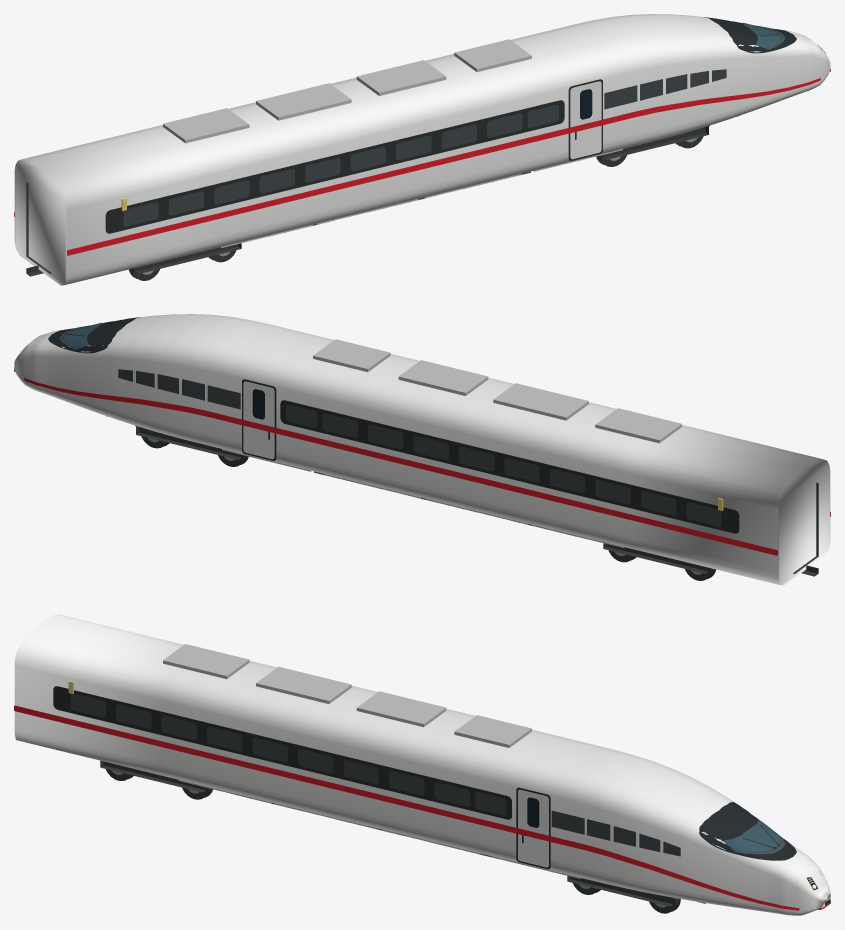
Rendered from ice3-br403-v2-continuity-403-0.glb.
The picture shows the model from 3 angles, top to bottom: view 1: azimuth 30°, elevation 25°; view 2: azimuth 150°, elevation 25°; view 3: azimuth 330°, elevation 25°; orthographic projection.
Visible parts, largest first — view 1: ice3_v2_reference_calibrated_cab_shell, ice3_continuity_403_0_continuous_black_glazing_band_-1, ice3_continuity_403_0_shared_red_body_stripe_-1, ice3_v2_roof_fairing_1, ice3_v2_roof_fairing_2, ice3_continuity_403_0_door_leaf_-1, ice3_v2_roof_fairing_0, ice3_v2_roof_fairing_3, ice3_v2_panorama_windscreen_seal, ice3_continuity_integrated_nose_stripe_-1, ice3_v2_end_car_bogie_1_sideframe_-1, ice3_v2_end_car_bogie_0_sideframe_-1 (+12 smaller); view 2: ice3_v2_reference_calibrated_cab_shell, ice3_continuity_403_0_continuous_black_glazing_band_1, ice3_continuity_403_0_shared_red_body_stripe_1, ice3_v2_roof_fairing_1, ice3_v2_roof_fairing_2, ice3_continuity_403_0_door_leaf_1, ice3_v2_roof_fairing_0, ice3_v2_roof_fairing_3, ice3_v2_end_car_bogie_1, ice3_v2_end_car_bogie_0, ice3_v2_panorama_windscreen_seal, ice3_continuity_integrated_nose_stripe_1 (+12 smaller); view 3: ice3_v2_reference_calibrated_cab_shell, ice3_continuity_403_0_continuous_black_glazing_band_-1, ice3_continuity_403_0_shared_red_body_stripe_-1, ice3_v2_panorama_windscreen_seal, ice3_v2_roof_fairing_1, ice3_v2_roof_fairing_2, ice3_continuity_403_0_door_leaf_-1, ice3_v2_roof_fairing_0, ice3_v2_roof_fairing_3, ice3_continuity_integrated_nose_stripe_-1, ice3_v2_panorama_windscreen_glass, ice3_v2_end_car_bogie_1_sideframe_-1 (+12 smaller).
Boxes of the visible parts, bbox=[...] form: ice3_v2_reference_calibrated_cab_shell: bbox=[14, 14, 830, 285]; ice3_continuity_403_0_continuous_black_glazing_band_-1: bbox=[105, 100, 564, 233]; ice3_continuity_403_0_shared_red_body_stripe_-1: bbox=[67, 116, 617, 255]; ice3_v2_roof_fairing_1: bbox=[256, 83, 351, 120]; ice3_v2_roof_fairing_2: bbox=[356, 60, 446, 95]; ice3_continuity_403_0_door_leaf_-1: bbox=[570, 81, 601, 159]; ice3_v2_roof_fairing_0: bbox=[163, 108, 249, 143]; ice3_v2_roof_fairing_3: bbox=[454, 39, 531, 72]; ice3_v2_panorama_windscreen_seal: bbox=[704, 17, 796, 53]; ice3_continuity_integrated_nose_stripe_-1: bbox=[617, 70, 830, 121]; ice3_v2_end_car_bogie_1_sideframe_-1: bbox=[603, 126, 708, 159]; ice3_v2_end_car_bogie_0_sideframe_-1: bbox=[136, 243, 241, 273]; ice3_v2_reference_calibrated_cab_shell: bbox=[14, 314, 830, 585]; ice3_continuity_403_0_continuous_black_glazing_band_1: bbox=[280, 400, 739, 533]; ice3_continuity_403_0_shared_red_body_stripe_1: bbox=[227, 416, 777, 555]; ice3_v2_roof_fairing_1: bbox=[493, 383, 588, 420]; ice3_v2_roof_fairing_2: bbox=[398, 360, 488, 395]; ice3_continuity_403_0_door_leaf_1: bbox=[243, 381, 274, 459]; ice3_v2_roof_fairing_0: bbox=[595, 408, 681, 443]; ice3_v2_roof_fairing_3: bbox=[313, 339, 390, 372]; ice3_v2_end_car_bogie_1: bbox=[136, 426, 248, 466]; ice3_v2_end_car_bogie_0: bbox=[603, 543, 715, 580]; ice3_v2_panorama_windscreen_seal: bbox=[48, 317, 140, 353]; ice3_continuity_integrated_nose_stripe_1: bbox=[14, 370, 227, 421]; ice3_v2_reference_calibrated_cab_shell: bbox=[14, 614, 830, 915]; ice3_continuity_403_0_continuous_black_glazing_band_-1: bbox=[53, 686, 511, 819]; ice3_continuity_403_0_shared_red_body_stripe_-1: bbox=[14, 705, 564, 844]; ice3_v2_panorama_windscreen_seal: bbox=[699, 802, 796, 860]; ice3_v2_roof_fairing_1: bbox=[256, 666, 351, 703]; ice3_v2_roof_fairing_2: bbox=[356, 691, 446, 727]; ice3_continuity_403_0_door_leaf_-1: bbox=[518, 789, 548, 867]; ice3_v2_roof_fairing_0: bbox=[163, 644, 249, 678]; ice3_v2_roof_fairing_3: bbox=[454, 715, 531, 747]; ice3_continuity_integrated_nose_stripe_-1: bbox=[564, 839, 821, 910]; ice3_v2_panorama_windscreen_glass: bbox=[723, 817, 785, 854]; ice3_v2_end_car_bogie_1_sideframe_-1: bbox=[567, 876, 673, 906].
Size of the model in its own units: 26.21 by 4.04 by 3.05.
